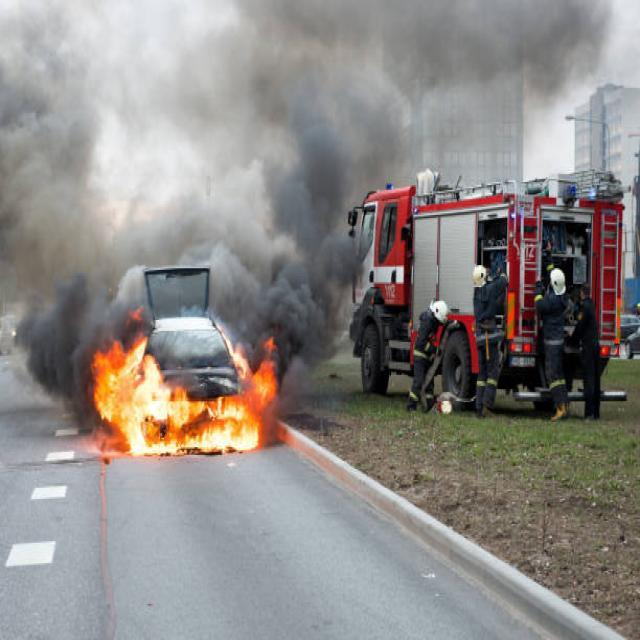Fire: (93, 335, 277, 454)
Smoke: (0, 0, 620, 430)
